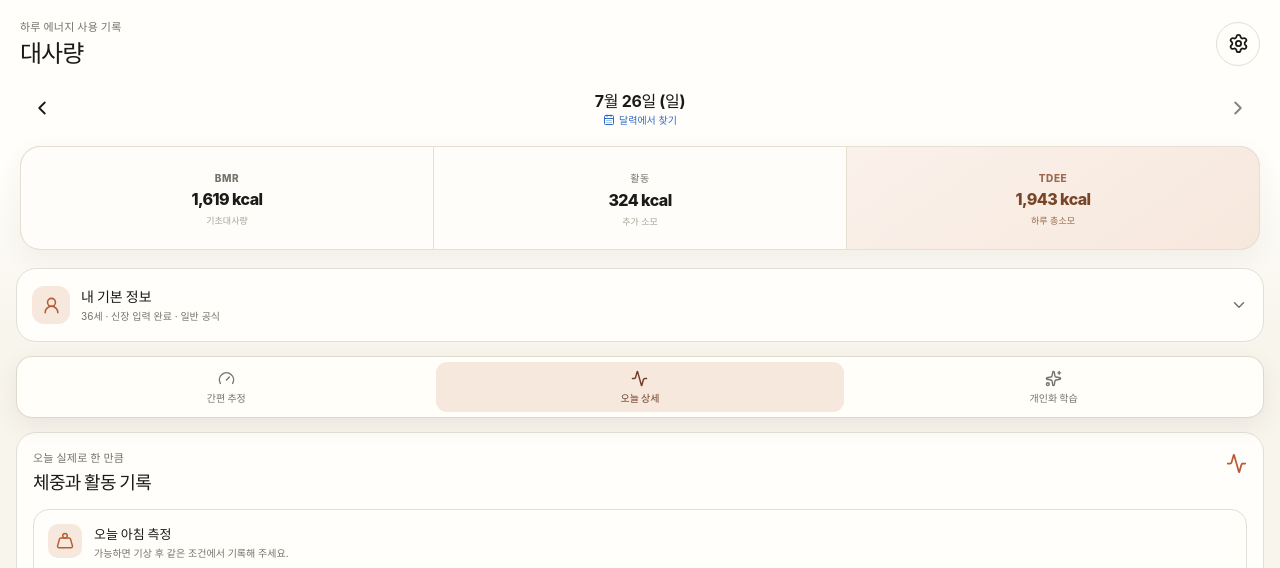
Test case: 저장된 신장은 숨기고 변경할 때만 빈 입력칸을 연다
Click the text "내 기본 정보" at (116,297), box [81, 288, 152, 305]
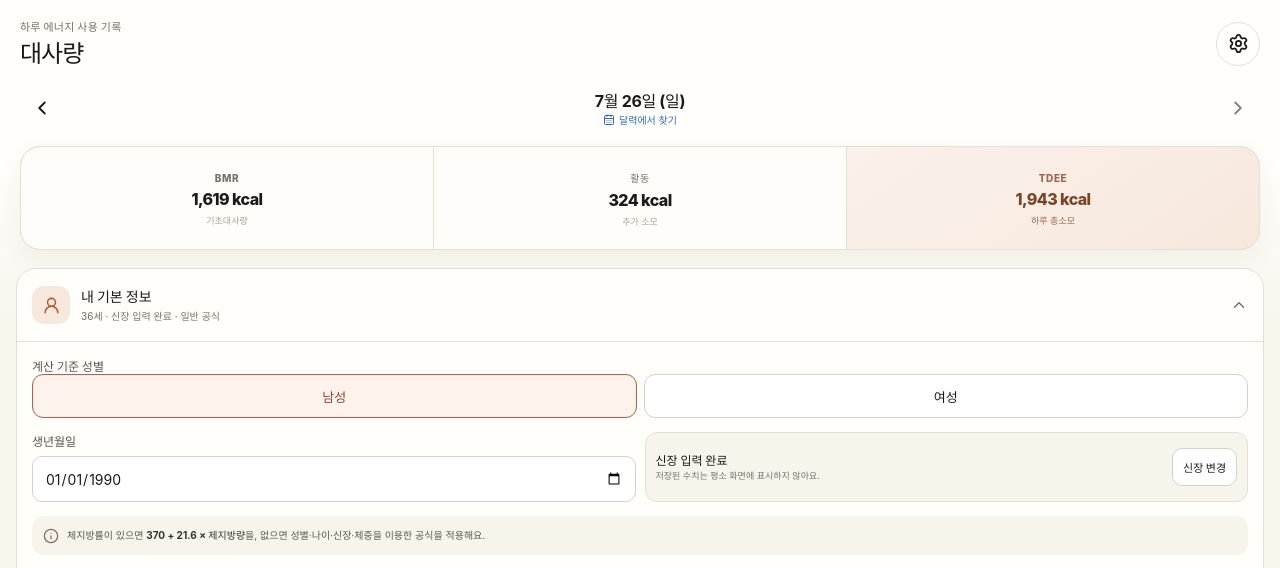
Expected: the button "신장 변경" is shown
Click the button "신장 변경" at (1205,467), box [1172, 448, 1237, 486]
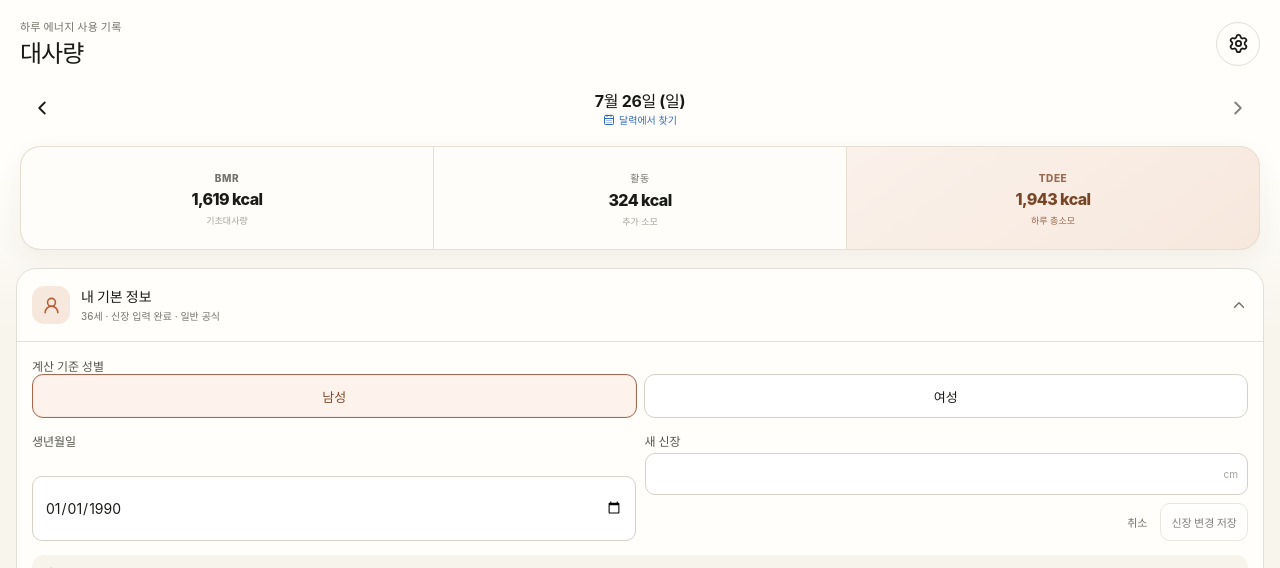
Expected: the number field named "새 신장 (cm)" is empty
Type "180" into the number field named "새 신장 (cm)" at (946,474), box [644, 453, 1248, 495]
Click the button "취소" at (1137,522), box [1119, 503, 1156, 541]
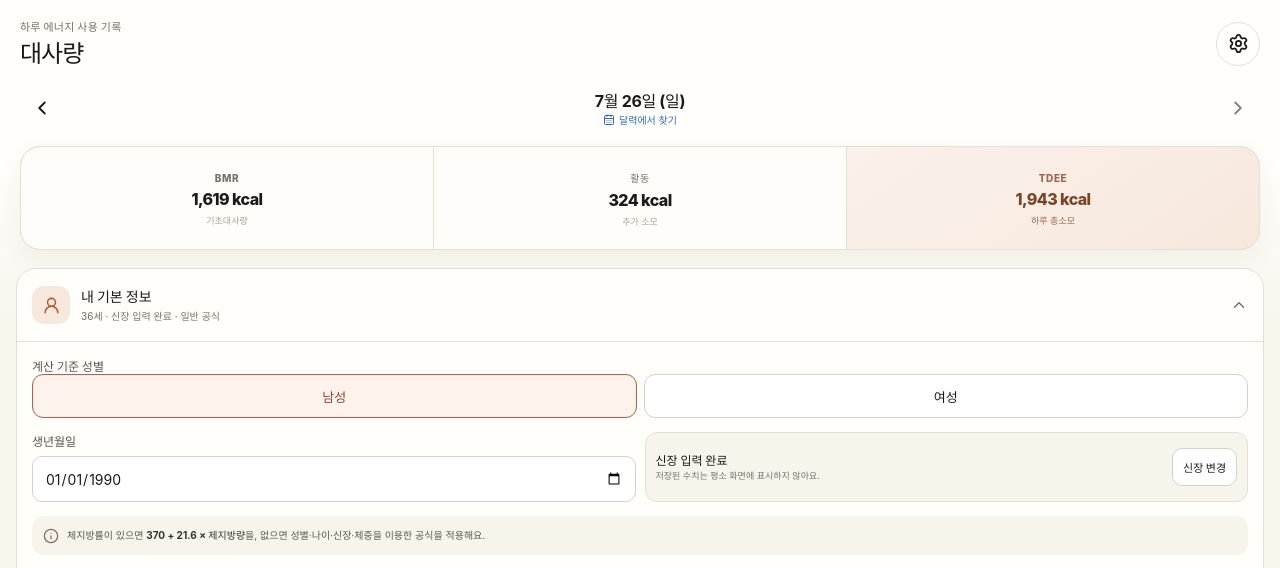
Expected: the label labelled "새 신장 (cm)" is gone
Click the button "신장 변경" at (1205,467), box [1172, 448, 1237, 486]
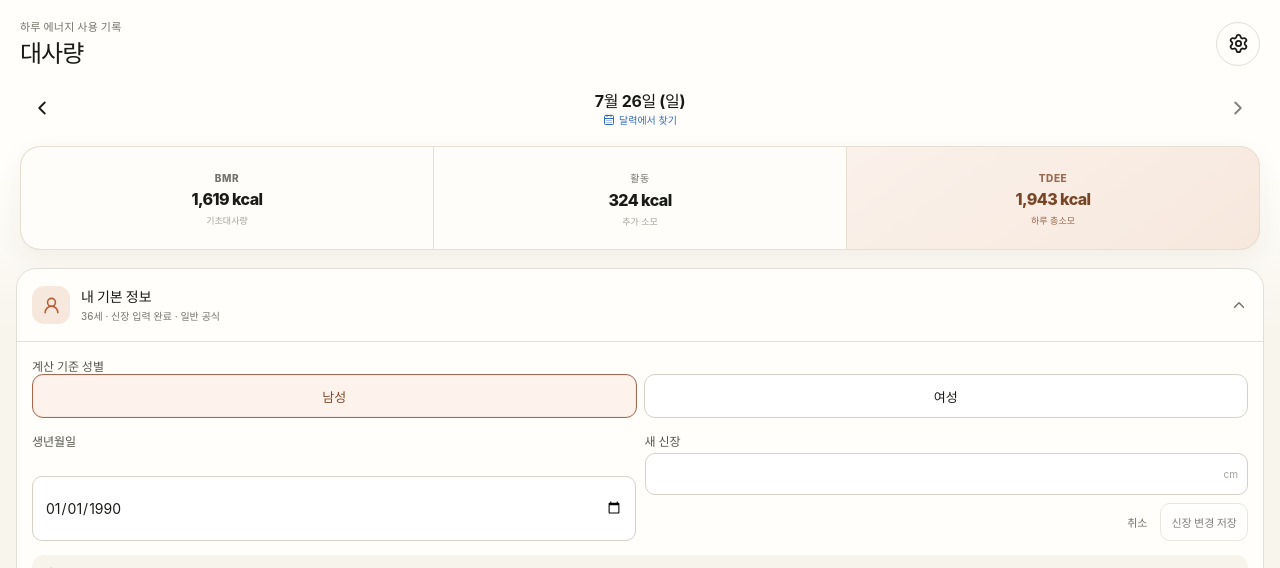
Expected: the number field named "새 신장 (cm)" is empty
Type "180" into the number field named "새 신장 (cm)" at (946,474), box [644, 453, 1248, 495]
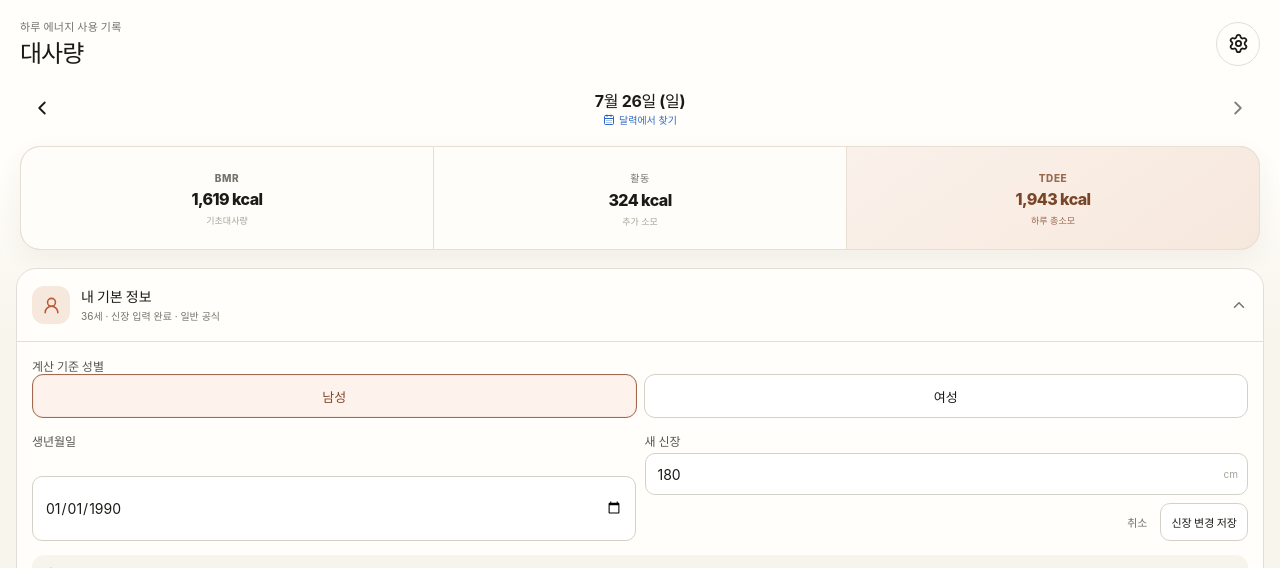
Click the button "신장 변경 저장" at (1204,522), box [1160, 503, 1248, 541]
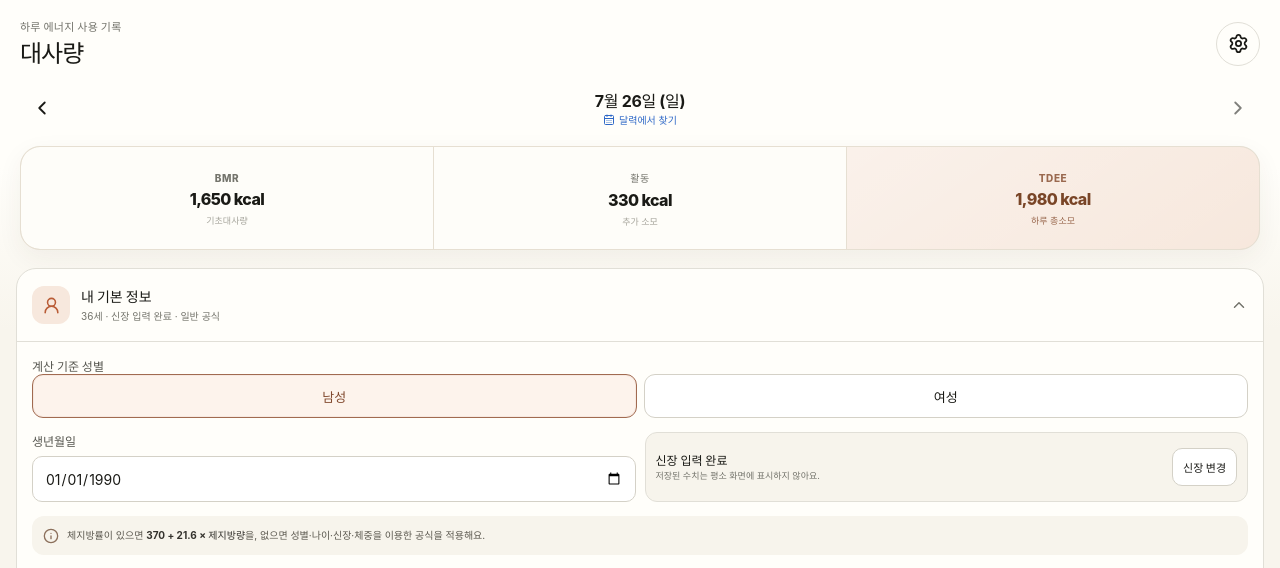
Expected: the label labelled "새 신장 (cm)" is gone
